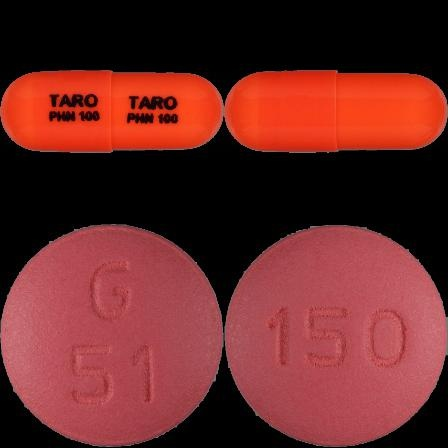0615-8020: (0, 0, 224, 224)
